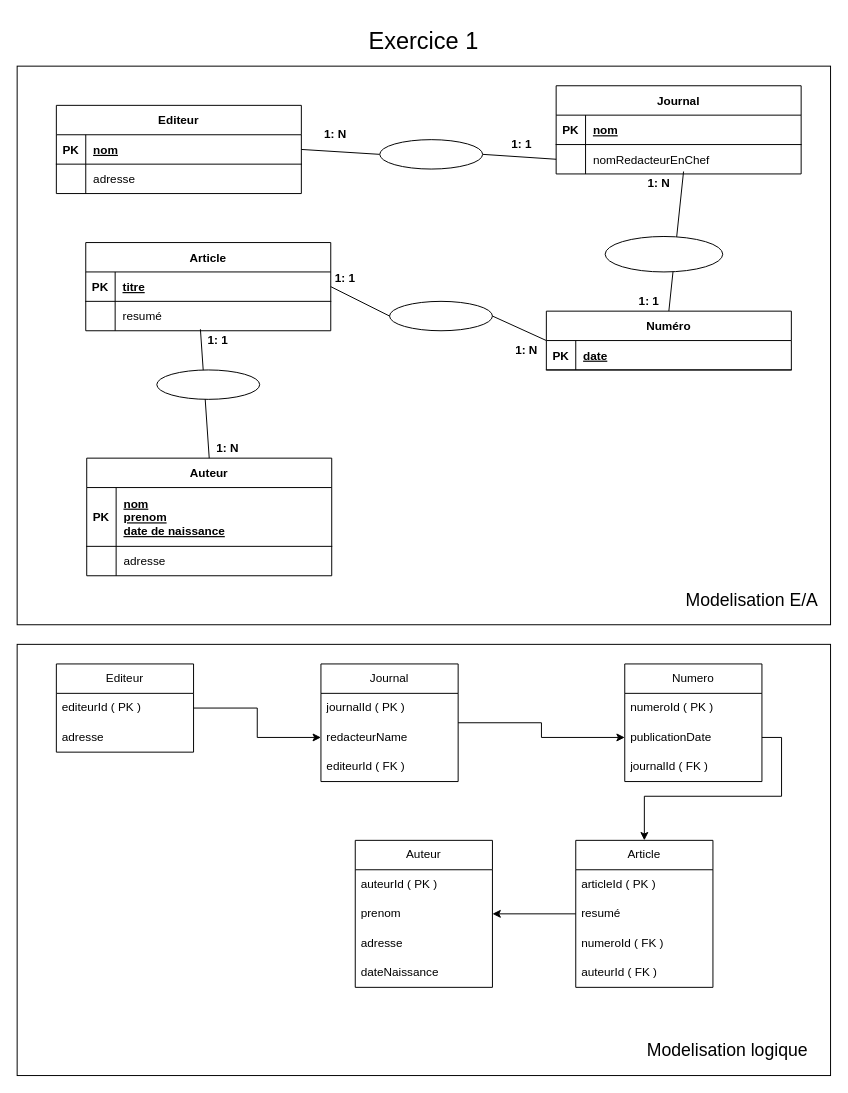
Image size: 848x1093. Some labels were removed from this diagram. The centre of each missing label's shape, as x and y in pixels:
"Contient" belongs at [440,315].
"Publie" belongs at [663,253].
"Écrit" belongs at [208,384].
"Édite" belongs at [431,154].
